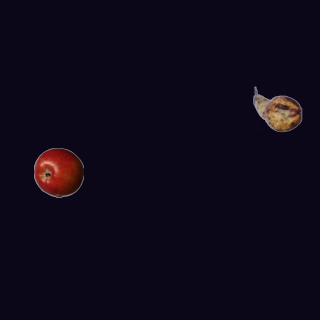Apple Braeburn: (33, 147, 83, 197)
Pear Abate: (252, 84, 302, 134)
